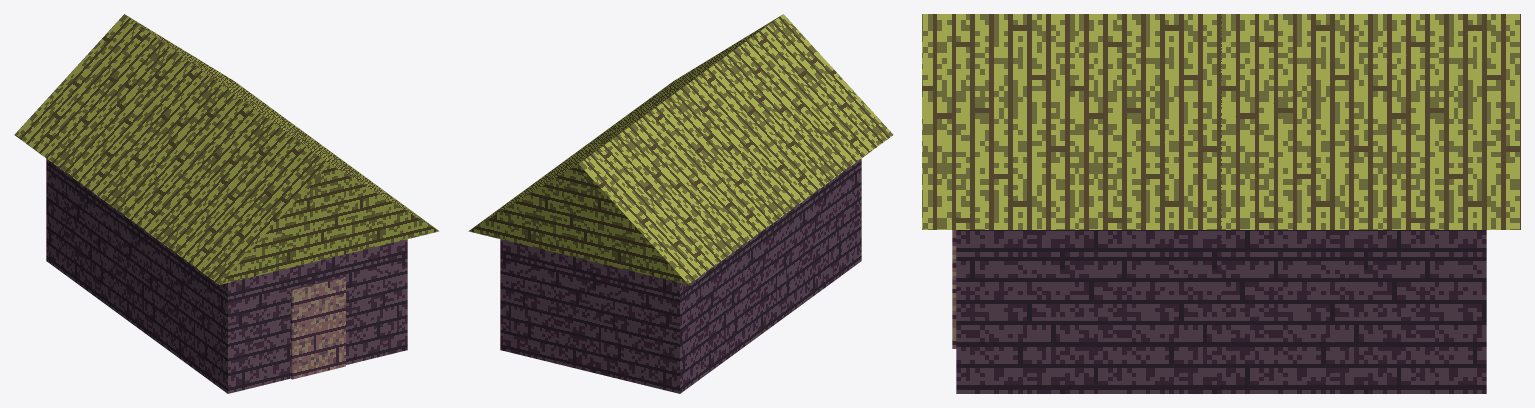
Rendered from porto_arquipelago_taberna.glb.
3 renders of one model, left to right at view 1: azimuth 30°, elevation 25°; view 2: azimuth 150°, elevation 25°; view 3: azimuth 270°, elevation 25°, orthographic. The views are drawn at different scales.
Parts seen in each view (by area): view 1: porto_arquipelago_taberna; view 2: porto_arquipelago_taberna; view 3: porto_arquipelago_taberna.
Part boxes in pixels (x1,y1,x2,y2): porto_arquipelago_taberna: [14, 14, 439, 393]; porto_arquipelago_taberna: [468, 14, 893, 393]; porto_arquipelago_taberna: [922, 14, 1520, 393].
Bounding box in the file's own units: 4.9 × 4.6 × 7.9.
3 materials, 3 textured.
